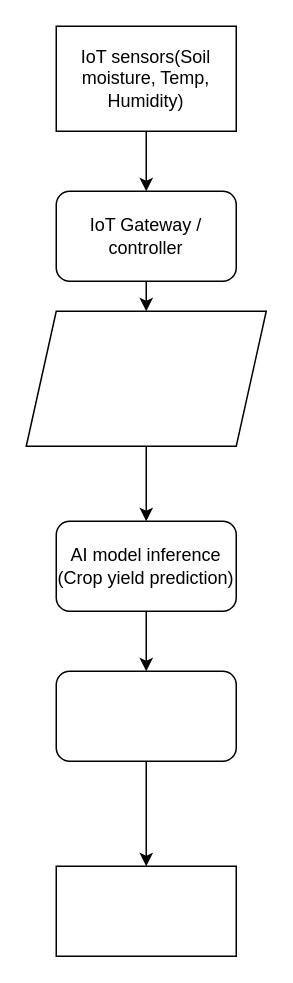
Image size: 293x983. Some labels were removed from this diagram. The centre of each missing label's shape, as x and y in pixels:
Data processing unit (Filtering, Normalization): [145,378]
Farmer dashboard (Visual insights, Alerts): [145,715]
